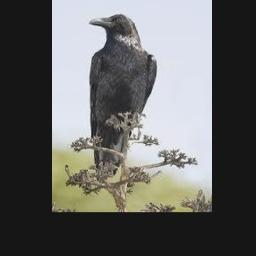Crow: (89, 14, 156, 184)
